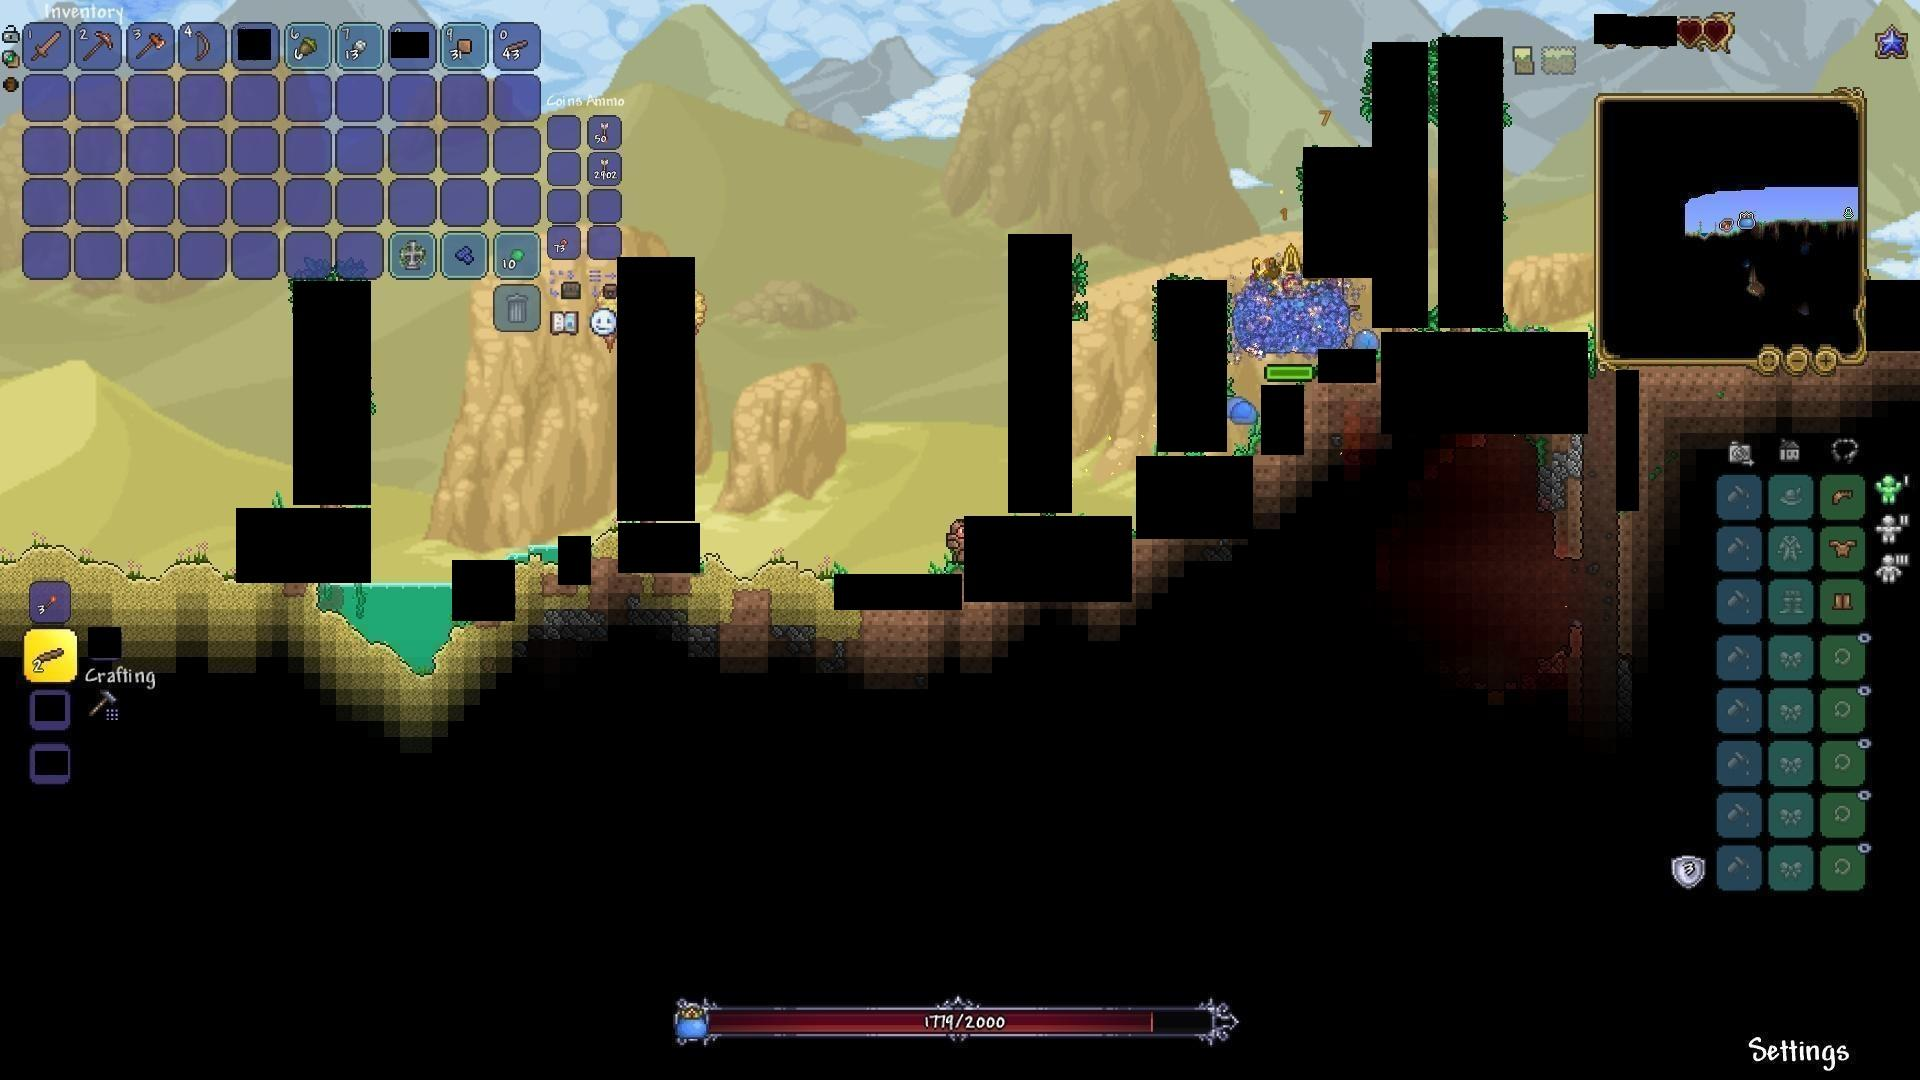breastplate: (1829, 537, 1859, 559)
helmet: (1826, 483, 1859, 510)
legs: (1830, 587, 1855, 616)
slime: (1348, 328, 1385, 353), (1226, 397, 1259, 425)
